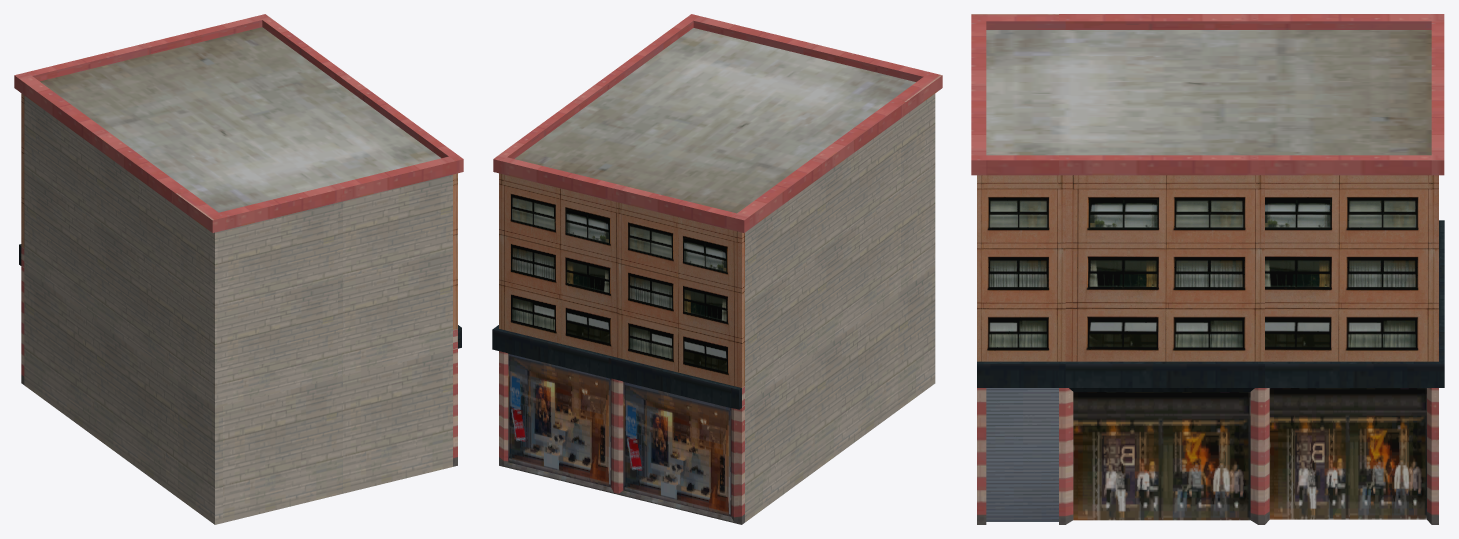
Rendered from Pizza_Delivery house18_14.fbx.
3 renders of one model, left to right at view 1: azimuth 30°, elevation 25°; view 2: azimuth 150°, elevation 25°; view 3: azimuth 270°, elevation 25°, orthographic. The views are drawn at different scales.
Parts seen in each view (by area): view 1: Pizza_Delivery:Pizza_Delivery:house18_14; view 2: Pizza_Delivery:Pizza_Delivery:house18_14; view 3: Pizza_Delivery:Pizza_Delivery:house18_14.
Part boxes in pixels (x1,y1,x2,y2): Pizza_Delivery:Pizza_Delivery:house18_14: (14,14,463,524); Pizza_Delivery:Pizza_Delivery:house18_14: (492,14,942,524); Pizza_Delivery:Pizza_Delivery:house18_14: (971,14,1444,524).
Bounding box in the file's own units: 10.1 × 11.78 × 13.78.
